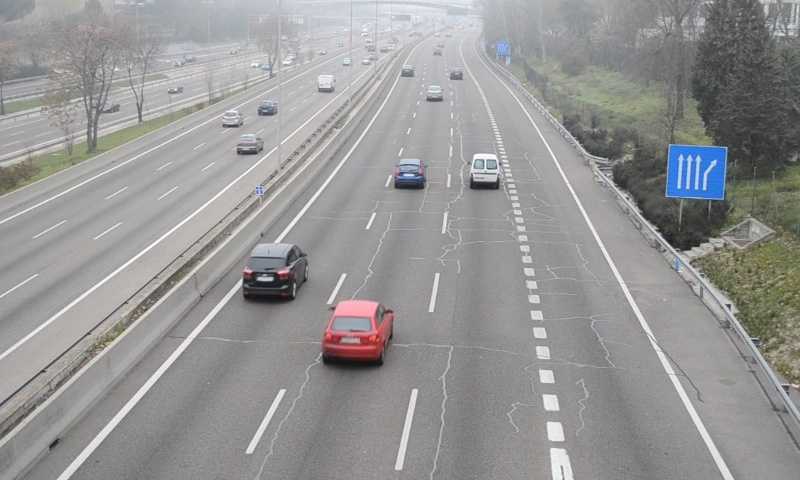car: (323, 301, 391, 361), (241, 244, 307, 298), (395, 157, 425, 187), (425, 84, 442, 101)
van: (470, 152, 500, 186)
